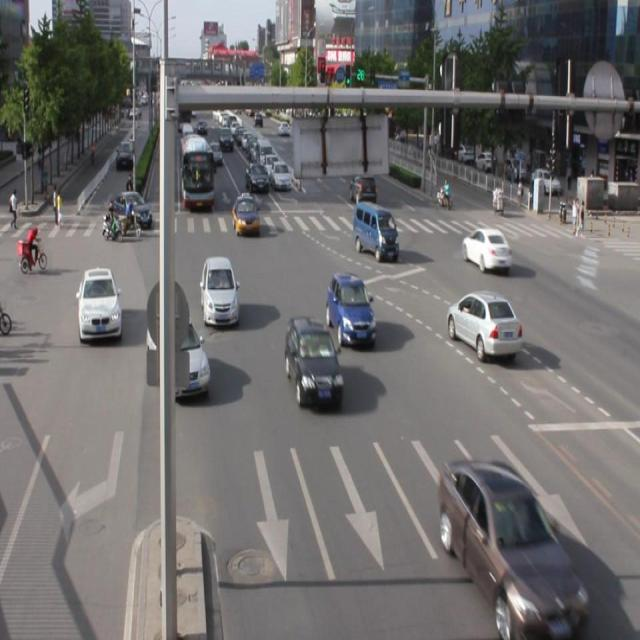car: (436, 455, 586, 634), (285, 315, 343, 407), (445, 289, 521, 357), (147, 316, 210, 398), (327, 272, 375, 347), (78, 268, 123, 340), (201, 256, 240, 328), (460, 224, 512, 270), (232, 194, 259, 236)
truck: (353, 201, 398, 258)
